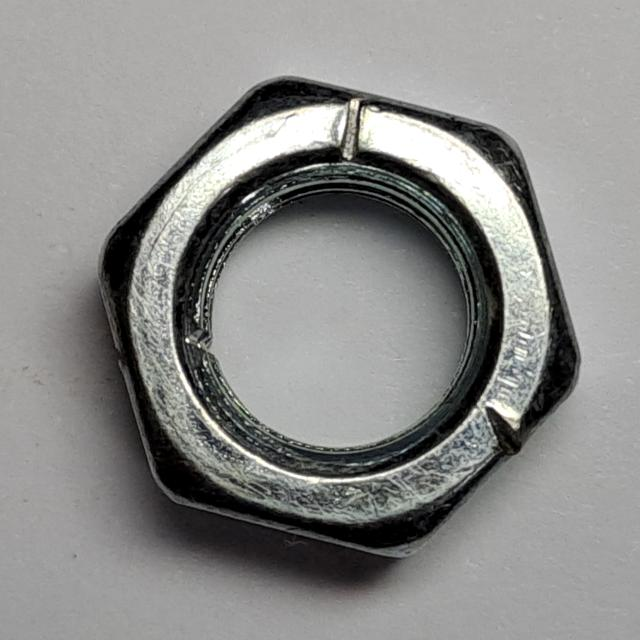Scratches: (85, 66, 591, 572)
